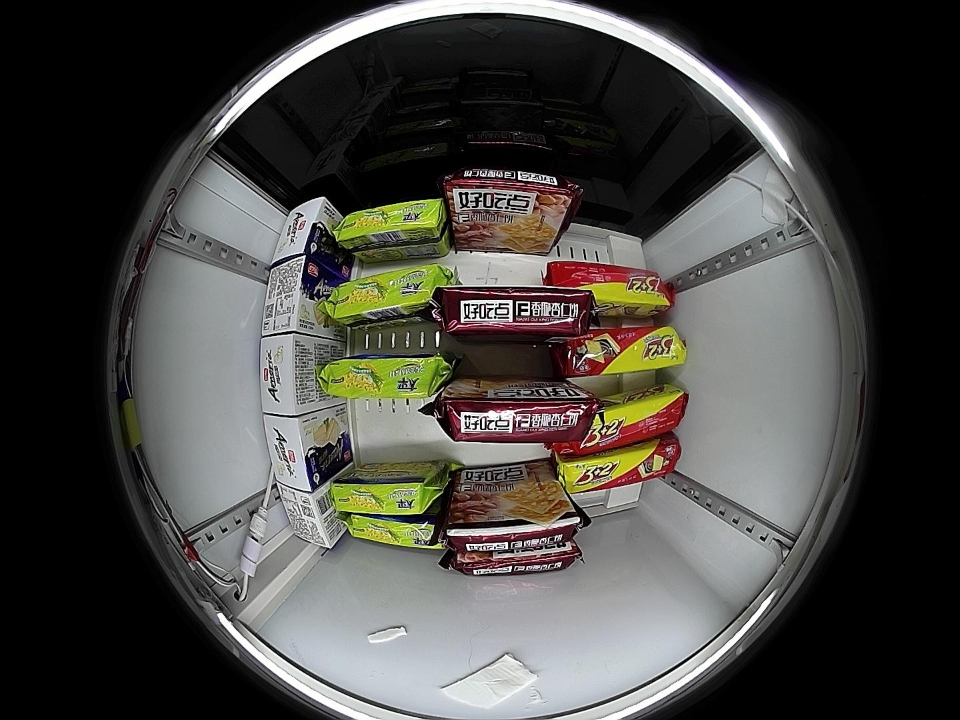3jia2: (575, 389, 687, 450), (557, 439, 680, 493), (562, 325, 689, 377), (552, 263, 676, 312)
haochidian: (437, 383, 602, 444), (441, 286, 596, 337), (440, 169, 585, 223), (443, 503, 584, 551), (439, 548, 586, 576)
meiniye: (261, 256, 326, 337), (260, 333, 322, 416), (264, 413, 329, 492), (271, 196, 337, 266), (276, 481, 341, 549)
taipingshuda: (328, 260, 442, 325), (324, 353, 448, 403), (336, 197, 447, 252), (334, 475, 438, 517), (344, 512, 444, 550)
